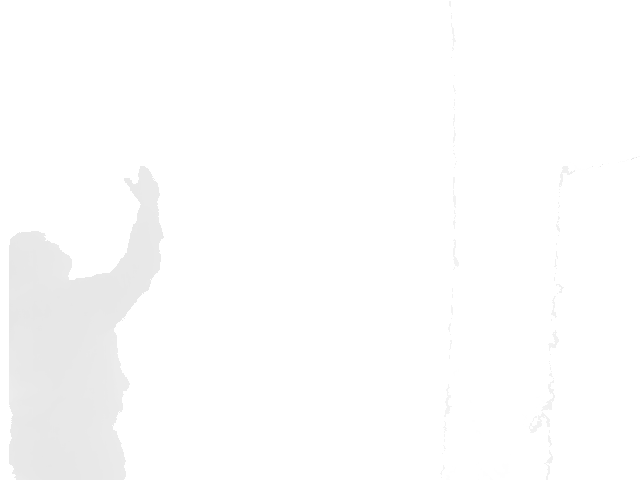hand: (124, 163, 161, 200)
head: (7, 231, 74, 280)
person: (8, 164, 166, 479)
